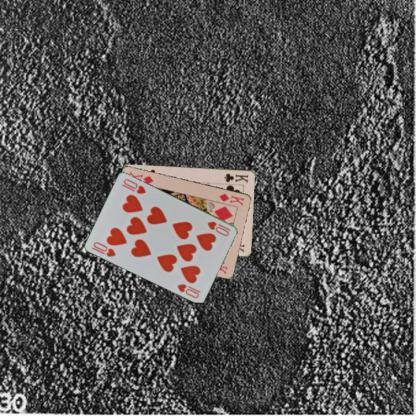10h: (91, 239, 117, 258), (205, 219, 232, 237)
Kc: (222, 171, 249, 184)
Kd: (216, 191, 246, 207)
